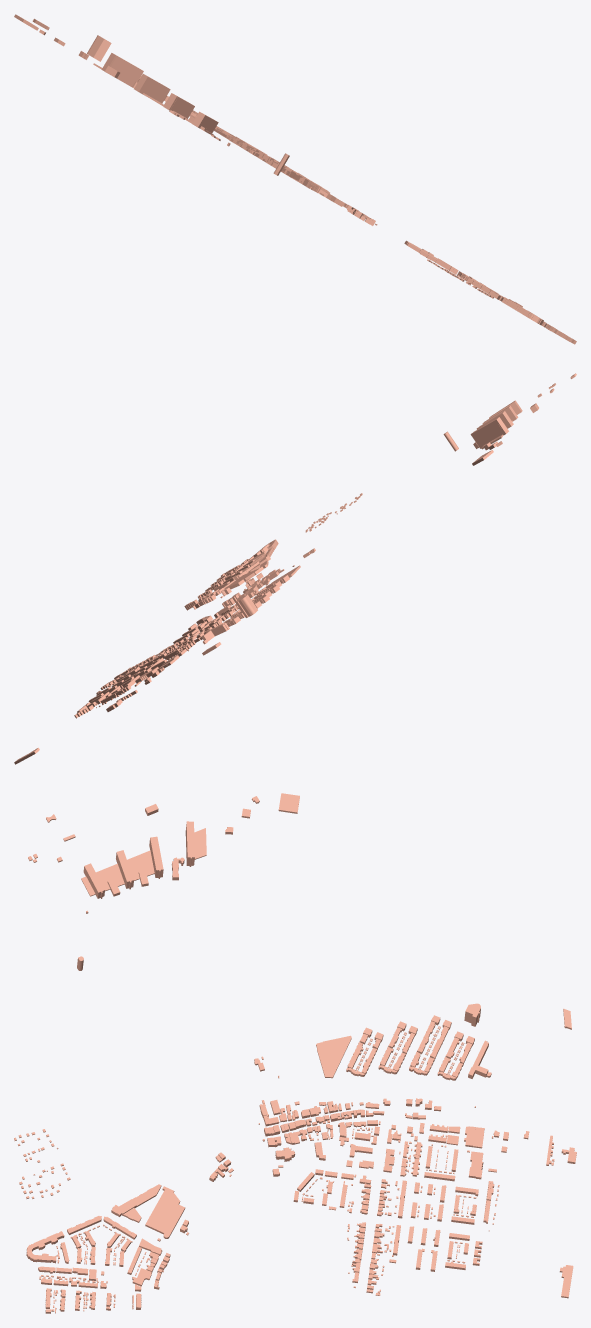
The picture shows the model from 3 angles, top to bottom: view 1: azimuth 30°, elevation 25°; view 2: azimuth 150°, elevation 25°; view 3: azimuth 270°, elevation 25°; orthographic projection. The views are drawn at different scales.
Bounding box in the file's own units: 1003 × 759 × 1194.
